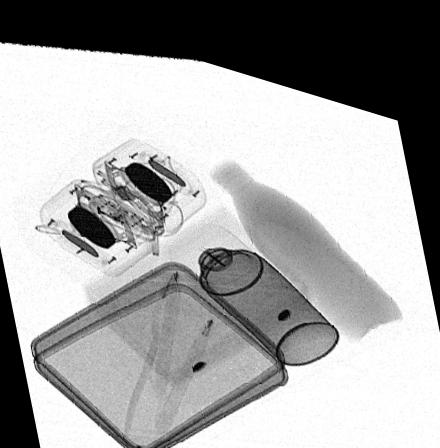Sprayer: (168, 209, 339, 347)
